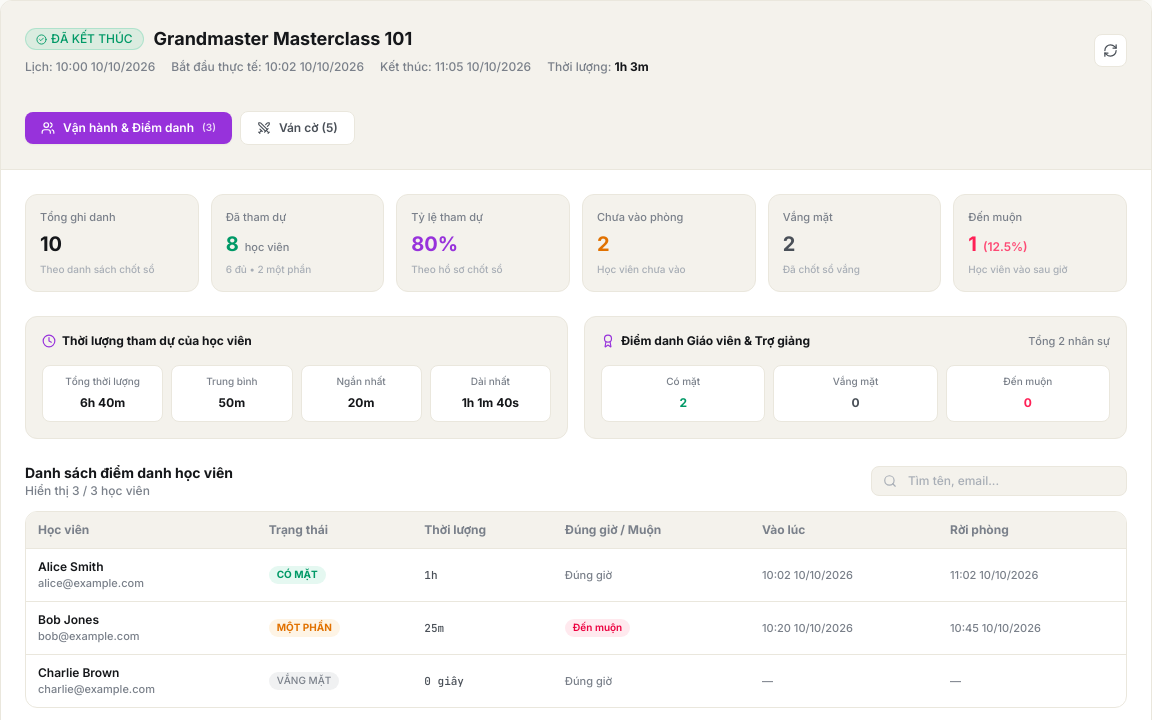
Scenario: TASK 9.5 — Live Session Analytics UI (LiveSessionAnalyticsView) › filters students by search input
Expected: the table with test id "roster-table" is shown, [26,512,1126,707]
In the field with test id "roster-search-input": coordinates (999, 481) [871,466,1127,496], type "alice"
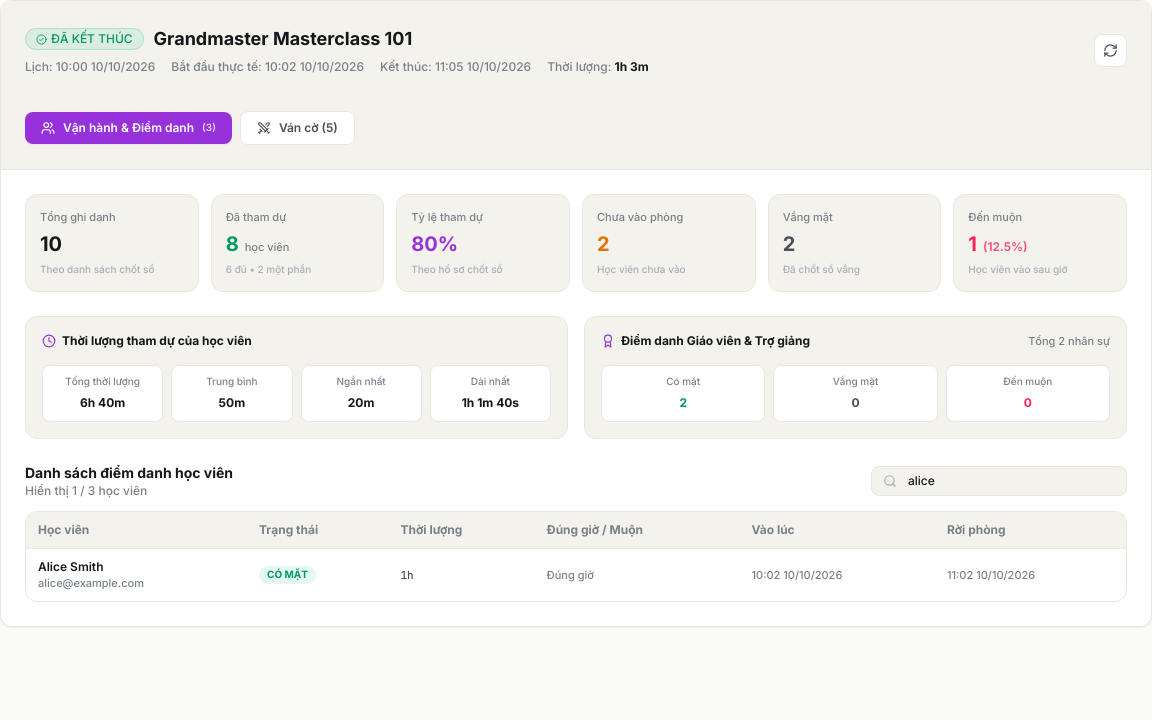
Expected: the text "Alice Smith" is shown, [38,559,104,574]
Expected: the text "Bob Jones" is gone
Expected: the text "Charlie Brown" is gone
# Non-matching search
Replace the text in the field with test id "roster-search-input" with "nonexistent-user": coordinates (999, 481) [871,466,1127,496]
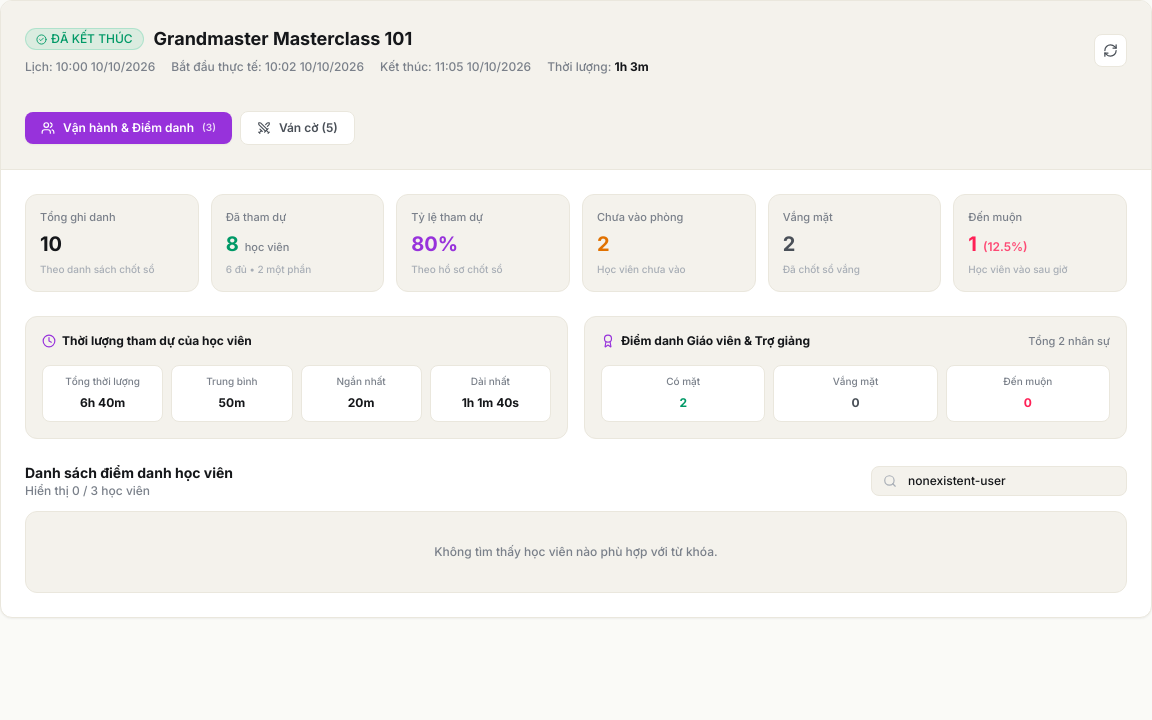
Expected: the text with test id "roster-empty-state" shows "Không tìm thấy học viên nào", [434,544,718,559]
